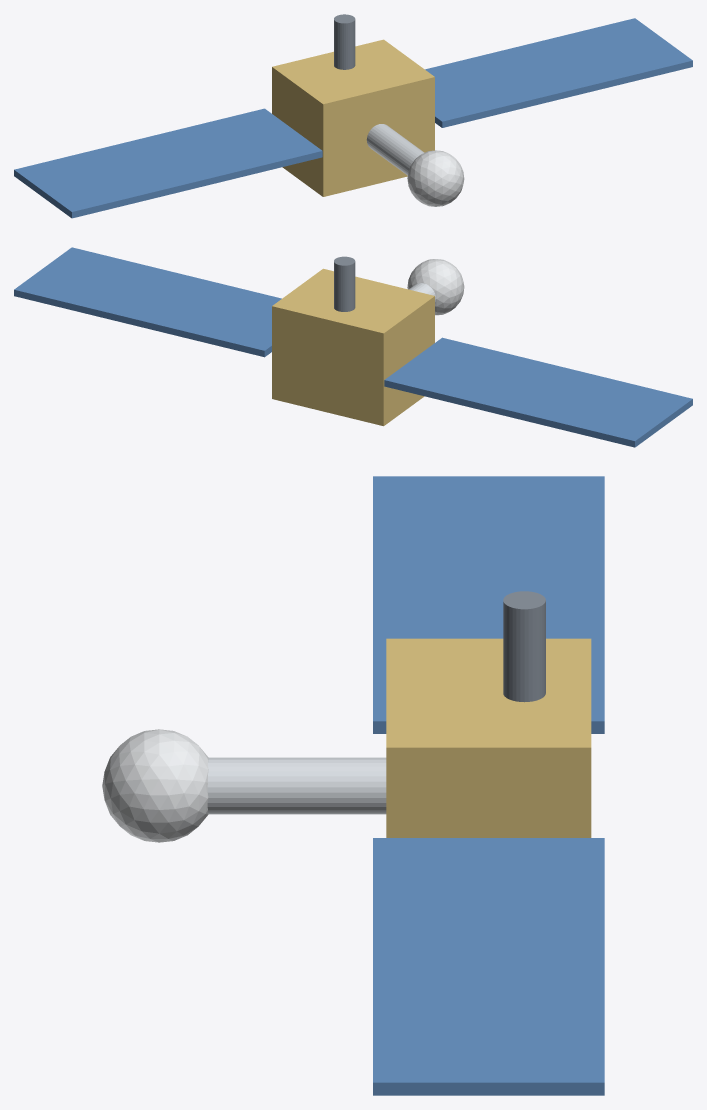
Rendered from navigation.glb.
3 renders of one model, top to bottom at view 1: azimuth 30°, elevation 25°; view 2: azimuth 150°, elevation 25°; view 3: azimuth 270°, elevation 25°, orthographic. The views are drawn at different scales.
Parts seen in each view (by area): view 1: navigation_0, navigation_1, navigation_2, navigation_4, navigation_3, navigation_5; view 2: navigation_0, navigation_1, navigation_2, navigation_4, navigation_5; view 3: navigation_2, navigation_0, navigation_1, navigation_3, navigation_4, navigation_5.
Part boxes in pixels (bbox=[...]): navigation_0: bbox=[272, 39, 434, 196]; navigation_1: bbox=[14, 108, 322, 218]; navigation_2: bbox=[425, 18, 692, 127]; navigation_4: bbox=[407, 150, 464, 206]; navigation_3: bbox=[366, 124, 424, 175]; navigation_5: bbox=[334, 14, 355, 69]; navigation_0: bbox=[272, 268, 434, 426]; navigation_1: bbox=[384, 337, 692, 447]; navigation_2: bbox=[14, 247, 281, 357]; navigation_4: bbox=[407, 259, 464, 315]; navigation_5: bbox=[334, 256, 355, 311]; navigation_2: bbox=[373, 838, 604, 1095]; navigation_0: bbox=[386, 638, 591, 837]; navigation_1: bbox=[373, 476, 604, 733]; navigation_3: bbox=[207, 757, 386, 814]; navigation_4: bbox=[102, 729, 208, 842]; navigation_5: bbox=[503, 591, 545, 702].
Bounding box in the file's own units: 8.05 × 1.72 × 2.82.
